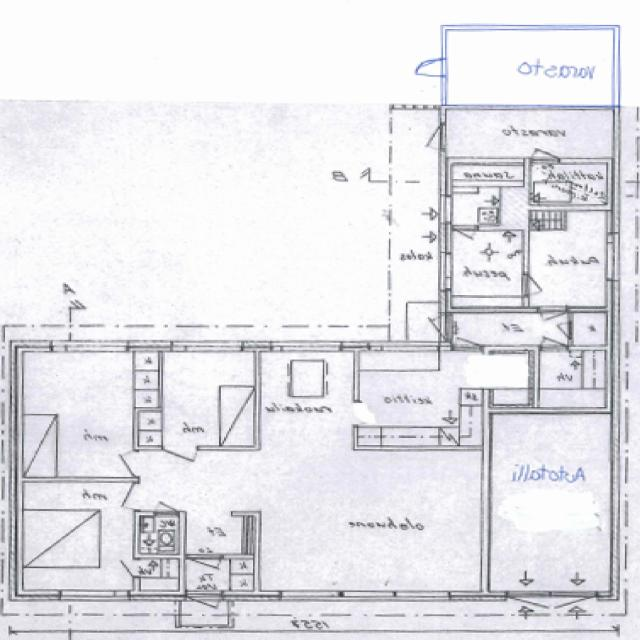door: (551, 591, 597, 638), (506, 591, 552, 638), (188, 591, 222, 628), (408, 314, 452, 339), (164, 446, 197, 478), (189, 555, 222, 586), (103, 451, 139, 477), (409, 124, 447, 148), (453, 322, 483, 352), (104, 484, 139, 509), (531, 134, 560, 163), (414, 55, 447, 77), (540, 308, 566, 335), (541, 324, 566, 352), (524, 273, 555, 295), (155, 491, 179, 516), (454, 226, 478, 250), (546, 322, 574, 341), (113, 559, 139, 576)
